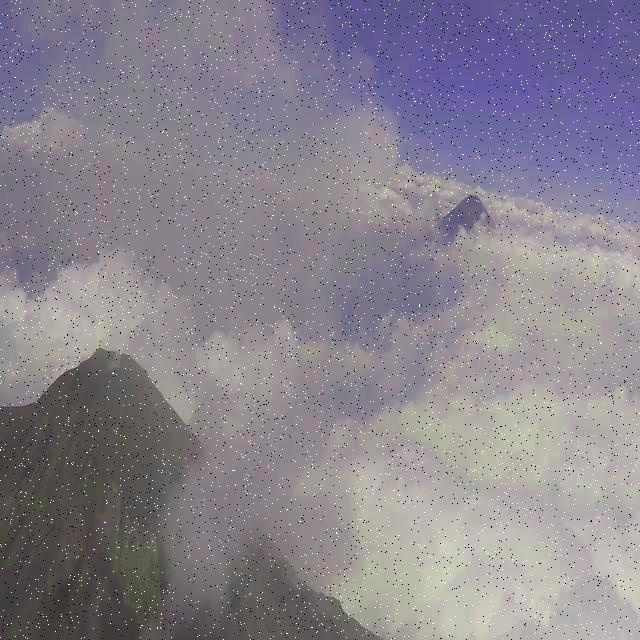Summit: (0, 326, 388, 640)
